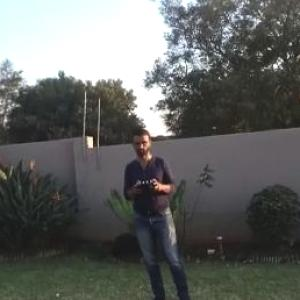follow: (118, 121, 202, 299)
